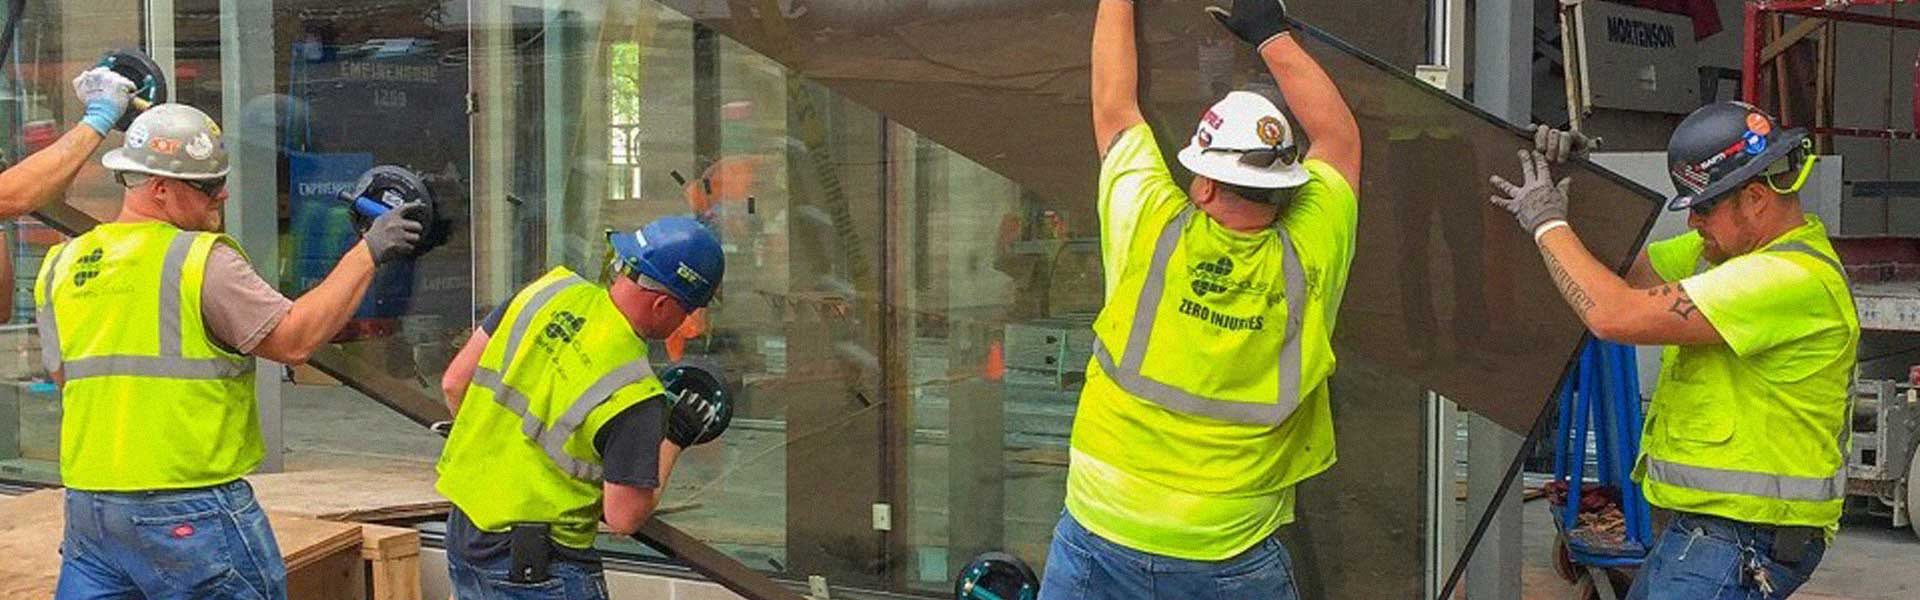Hard Hat: (1651, 99, 1806, 208), (1168, 86, 1308, 187), (602, 212, 726, 302), (102, 105, 234, 178)
High Viz: (1116, 198, 1302, 498), (1671, 252, 1853, 525), (40, 234, 238, 459), (469, 271, 624, 512)
